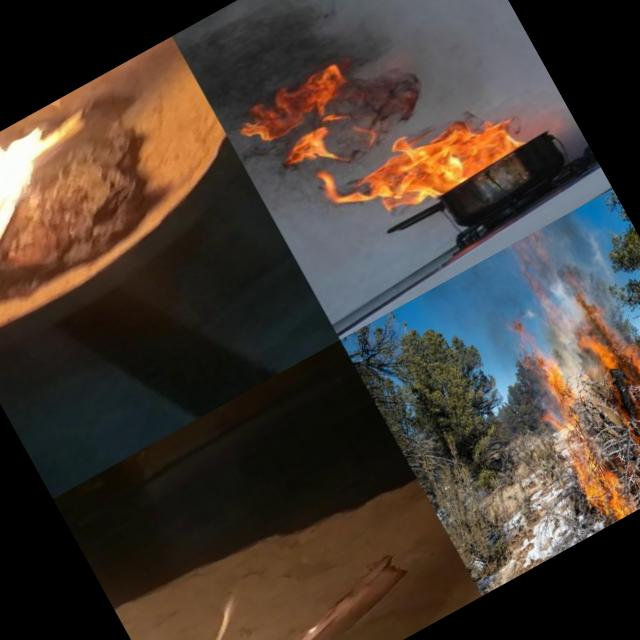fire: (316, 82, 530, 243), (0, 100, 109, 290), (231, 56, 373, 188), (588, 316, 640, 492), (559, 438, 638, 532), (520, 356, 592, 442), (502, 311, 548, 370)
smoke: (172, 0, 386, 118), (502, 208, 640, 358), (424, 251, 538, 361), (346, 47, 442, 140), (559, 346, 630, 439), (478, 331, 536, 388)
